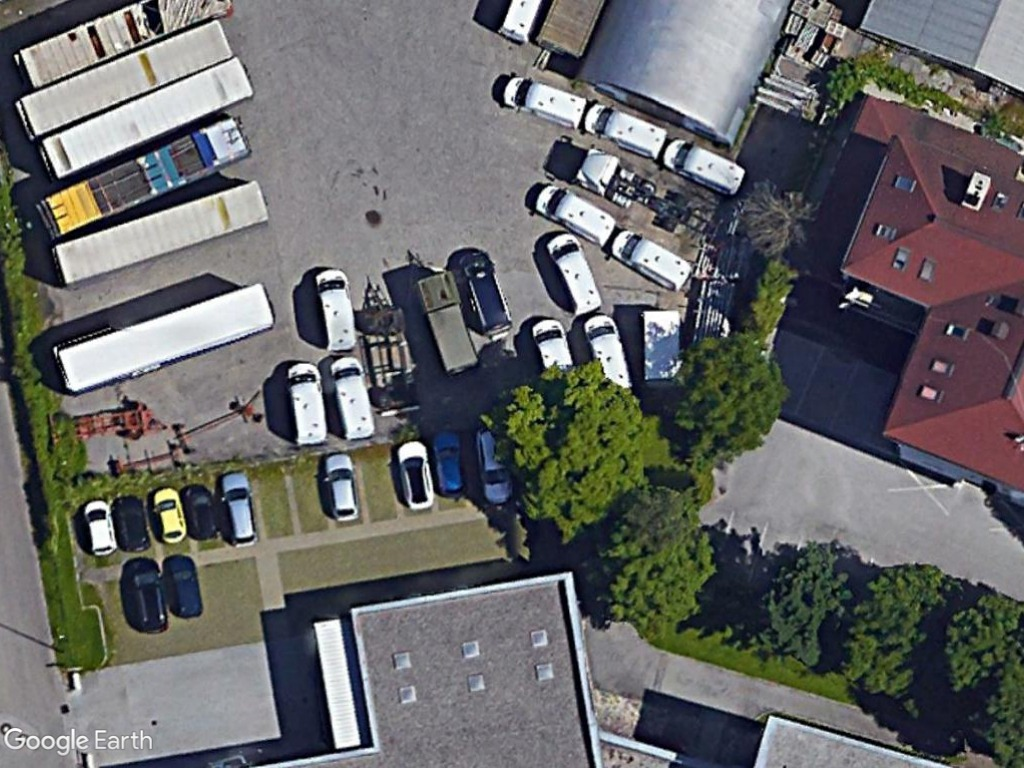car: (118, 556, 173, 637), (385, 434, 438, 512), (213, 466, 262, 546), (317, 447, 365, 528), (76, 494, 123, 563), (426, 426, 471, 497), (145, 481, 191, 550)
van: (536, 227, 610, 321), (493, 69, 593, 134), (578, 98, 675, 163), (654, 133, 751, 198), (523, 181, 619, 246), (605, 226, 695, 291), (326, 353, 385, 444), (308, 263, 364, 357), (282, 357, 333, 452)
